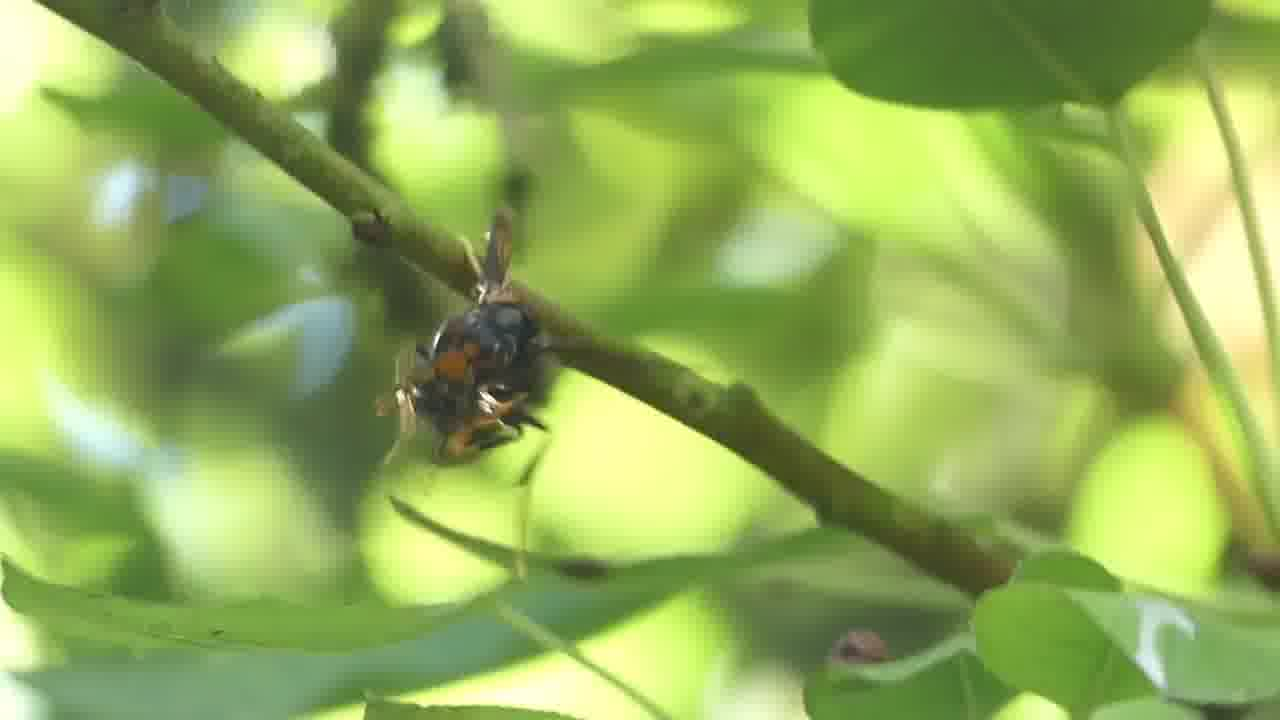hornet: (357, 267, 584, 491)
